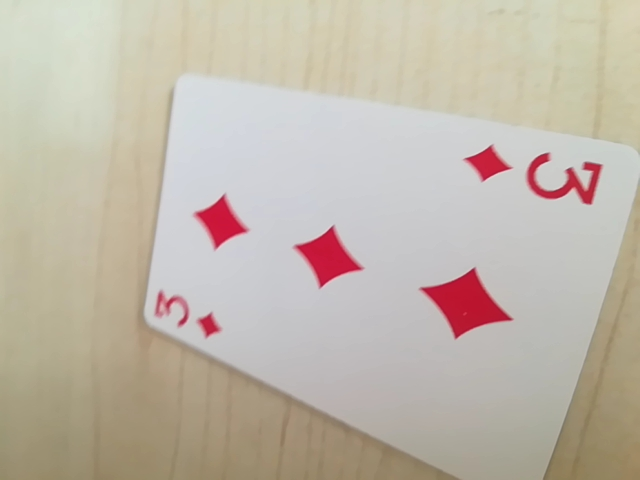fk 3: (459, 139, 606, 210), (151, 284, 226, 342)
